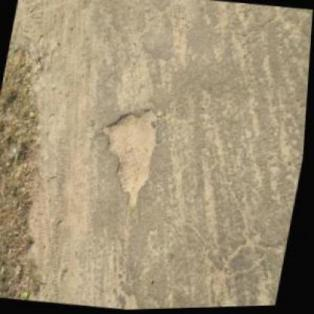Hueco: (86, 100, 168, 213)
